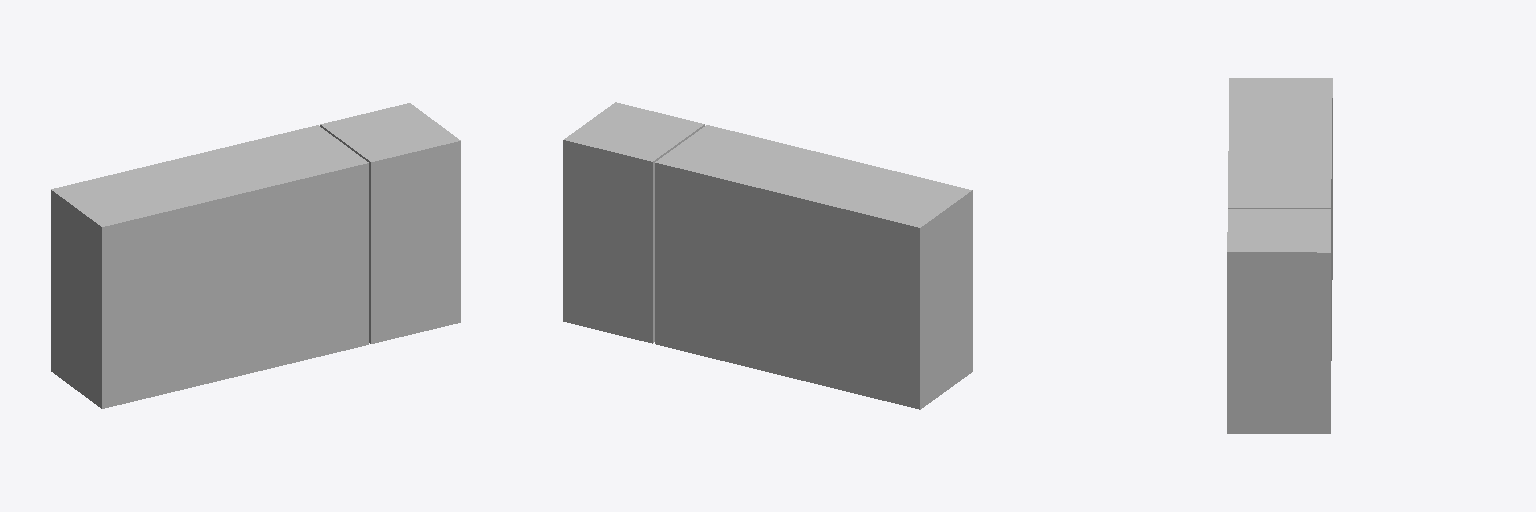
File: decoration6.mtl.obj
3 views of the same model, side by side, from view 1: azimuth 30°, elevation 25°; view 2: azimuth 150°, elevation 25°; view 3: azimuth 270°, elevation 25° (orthographic).
Visible parts, largest first — view 1: Cube.044_Cube.045, Cube.047_Cube.048, Cube.043_Cube.044, Cube.046_Cube.047, Cube.045_Cube.046, Cube.040_Cube.041, Cube.042_Cube.043, Cube.041_Cube.042; view 2: Cube.044_Cube.045, Cube.047_Cube.048, Cube.045_Cube.046, Cube.043_Cube.044, Cube.046_Cube.047, Cube.040_Cube.041, Cube.041_Cube.042, Cube.042_Cube.043; view 3: Cube.047_Cube.048, Cube.040_Cube.041, Cube.046_Cube.047, Cube.044_Cube.045, Cube.045_Cube.046.
Part boxes in pixels (left/top/right/bottom): Cube.044_Cube.045: left=51, top=168, right=191, bottom=320; Cube.047_Cube.048: left=320, top=103, right=460, bottom=255; Cube.043_Cube.044: left=51, top=278, right=191, bottom=408; Cube.046_Cube.047: left=229, top=125, right=368, bottom=277; Cube.045_Cube.046: left=142, top=147, right=279, bottom=298; Cube.040_Cube.041: left=369, top=229, right=460, bottom=343; Cube.042_Cube.043: left=192, top=273, right=279, bottom=386; Cube.041_Cube.042: left=280, top=251, right=368, bottom=365; Cube.044_Cube.045: left=832, top=168, right=972, bottom=321; Cube.047_Cube.048: left=563, top=102, right=704, bottom=253; Cube.045_Cube.046: left=744, top=147, right=882, bottom=299; Cube.043_Cube.044: left=833, top=282, right=972, bottom=409; Cube.046_Cube.047: left=655, top=125, right=794, bottom=275; Cube.040_Cube.041: left=563, top=229, right=654, bottom=343; Cube.041_Cube.042: left=655, top=254, right=743, bottom=365; Cube.042_Cube.043: left=744, top=273, right=832, bottom=387; Cube.047_Cube.048: left=1227, top=209, right=1330, bottom=345; Cube.040_Cube.041: left=1227, top=341, right=1330, bottom=433; Cube.046_Cube.047: left=1228, top=164, right=1331, bottom=266; Cube.044_Cube.045: left=1229, top=78, right=1332, bottom=189; Cube.045_Cube.046: left=1228, top=121, right=1331, bottom=163.
Bounding box in the file's own units: 4.77 × 2.31 × 1.22.